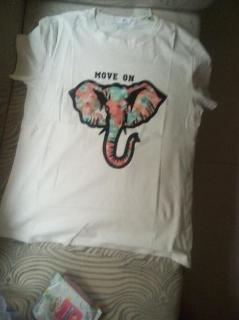short sleeve top: (0, 7, 219, 268)
